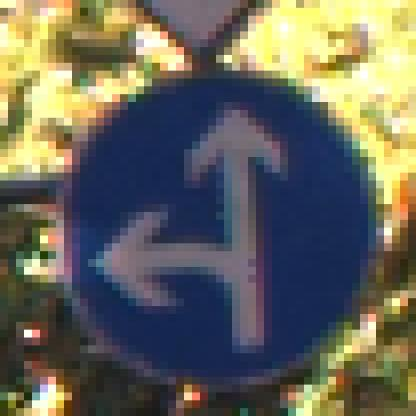Straight or Left: (49, 48, 369, 370)
